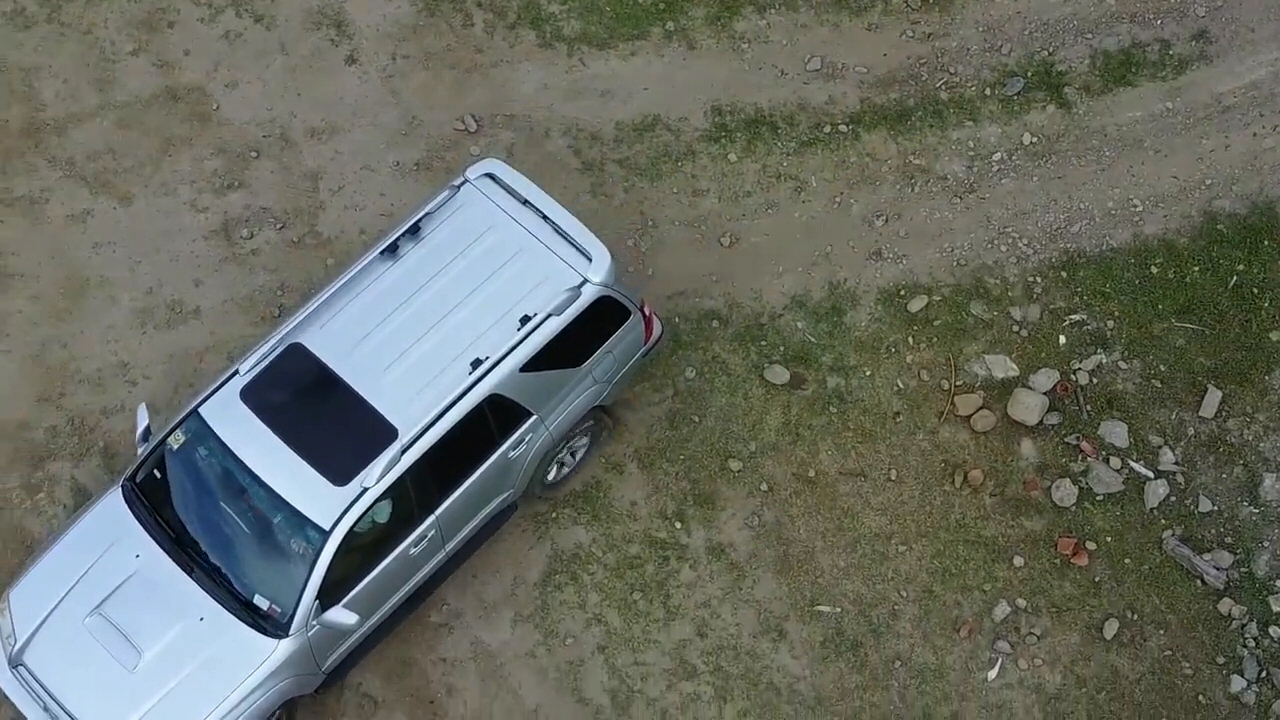araba: (1, 160, 668, 713)
